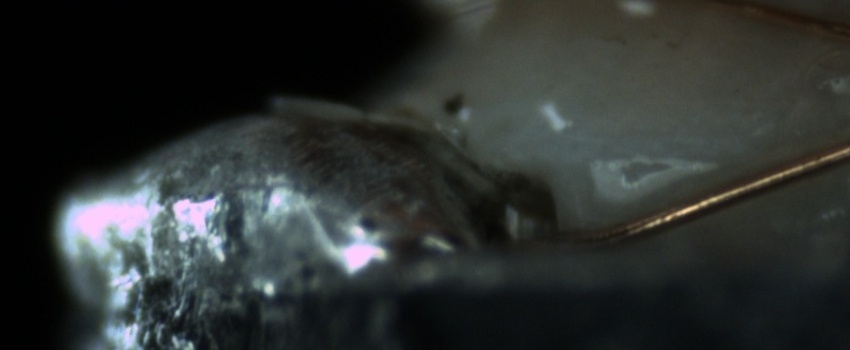DL: (590, 135, 755, 193)
